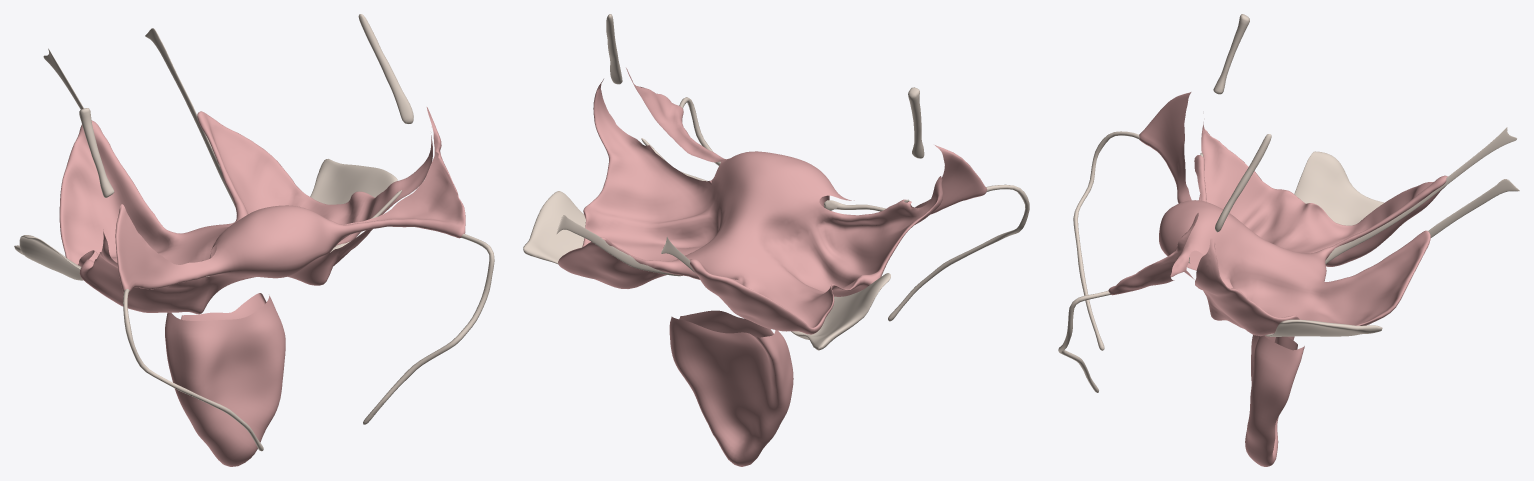
Rendered from vagina-ligaments.glb.
3 renders of one model, left to right at view 1: azimuth 30°, elevation 25°; view 2: azimuth 150°, elevation 25°; view 3: azimuth 270°, elevation 25°, orthographic. The views are drawn at different scales.
Parts seen in each view (by area): view 1: VH_F_broad_ligament, VH_F_vagina, VH_F_left_cardinal_ligament_of_uterus, VH_F_right_round_ligament_of_uterus, VH_F_right_cardinal_ligament_of_uterus, VH_F_left_round_ligament_of_uterus, VH_F_suspensory_ligament_of_ovary_L, VH_F_left_uterosacral_ligament, VH_F_suspensory_ligament_of_ovary_R; view 2: VH_F_broad_ligament, VH_F_vagina, VH_F_left_cardinal_ligament_of_uterus, VH_F_right_cardinal_ligament_of_uterus, VH_F_left_round_ligament_of_uterus, VH_F_left_uterosacral_ligament, VH_F_suspensory_ligament_of_ovary_R, VH_F_suspensory_ligament_of_ovary_L; view 3: VH_F_broad_ligament, VH_F_vagina, VH_F_right_cardinal_ligament_of_uterus, VH_F_left_cardinal_ligament_of_uterus, VH_F_right_uterosacral_ligament, VH_F_left_round_ligament_of_uterus, VH_F_left_uterosacral_ligament, VH_F_suspensory_ligament_of_ovary_L, VH_F_right_round_ligament_of_uterus, VH_F_suspensory_ligament_of_ovary_R.
Part boxes in pixels (left/top/right/bottom): VH_F_broad_ligament: left=59, top=107, right=465, bottom=314; VH_F_vagina: left=165, top=293, right=285, bottom=466; VH_F_left_cardinal_ligament_of_uterus: left=310, top=159, right=397, bottom=252; VH_F_right_round_ligament_of_uterus: left=363, top=234, right=494, bottom=424; VH_F_right_cardinal_ligament_of_uterus: left=14, top=235, right=209, bottom=280; VH_F_left_round_ligament_of_uterus: left=123, top=289, right=263, bottom=451; VH_F_suspensory_ligament_of_ovary_L: left=358, top=14, right=413, bottom=123; VH_F_left_uterosacral_ligament: left=145, top=28, right=235, bottom=207; VH_F_suspensory_ligament_of_ovary_R: left=79, top=108, right=114, bottom=197; VH_F_broad_ligament: left=558, top=68, right=987, bottom=334; VH_F_vagina: left=669, top=310, right=793, bottom=466; VH_F_left_cardinal_ligament_of_uterus: left=523, top=191, right=585, bottom=264; VH_F_right_cardinal_ligament_of_uterus: left=791, top=273, right=890, bottom=350; VH_F_left_round_ligament_of_uterus: left=824, top=184, right=1029, bottom=321; VH_F_left_uterosacral_ligament: left=556, top=215, right=682, bottom=276; VH_F_suspensory_ligament_of_ovary_R: left=908, top=87, right=924, bottom=158; VH_F_suspensory_ligament_of_ovary_L: left=606, top=14, right=622, bottom=84; VH_F_broad_ligament: left=1108, top=92, right=1447, bottom=336; VH_F_vagina: left=1245, top=335, right=1304, bottom=466; VH_F_right_cardinal_ligament_of_uterus: left=1294, top=151, right=1384, bottom=225; VH_F_left_cardinal_ligament_of_uterus: left=1265, top=319, right=1382, bottom=336; VH_F_right_uterosacral_ligament: left=1325, top=127, right=1516, bottom=263; VH_F_left_round_ligament_of_uterus: left=1073, top=131, right=1139, bottom=350; VH_F_left_uterosacral_ligament: left=1428, top=179, right=1519, bottom=237; VH_F_suspensory_ligament_of_ovary_L: left=1215, top=134, right=1271, bottom=232; VH_F_right_round_ligament_of_uterus: left=1058, top=257, right=1189, bottom=392; VH_F_suspensory_ligament_of_ovary_R: left=1213, top=14, right=1249, bottom=94.
Bounding box in the file's own units: 0.1471 × 0.159 × 0.1706.
